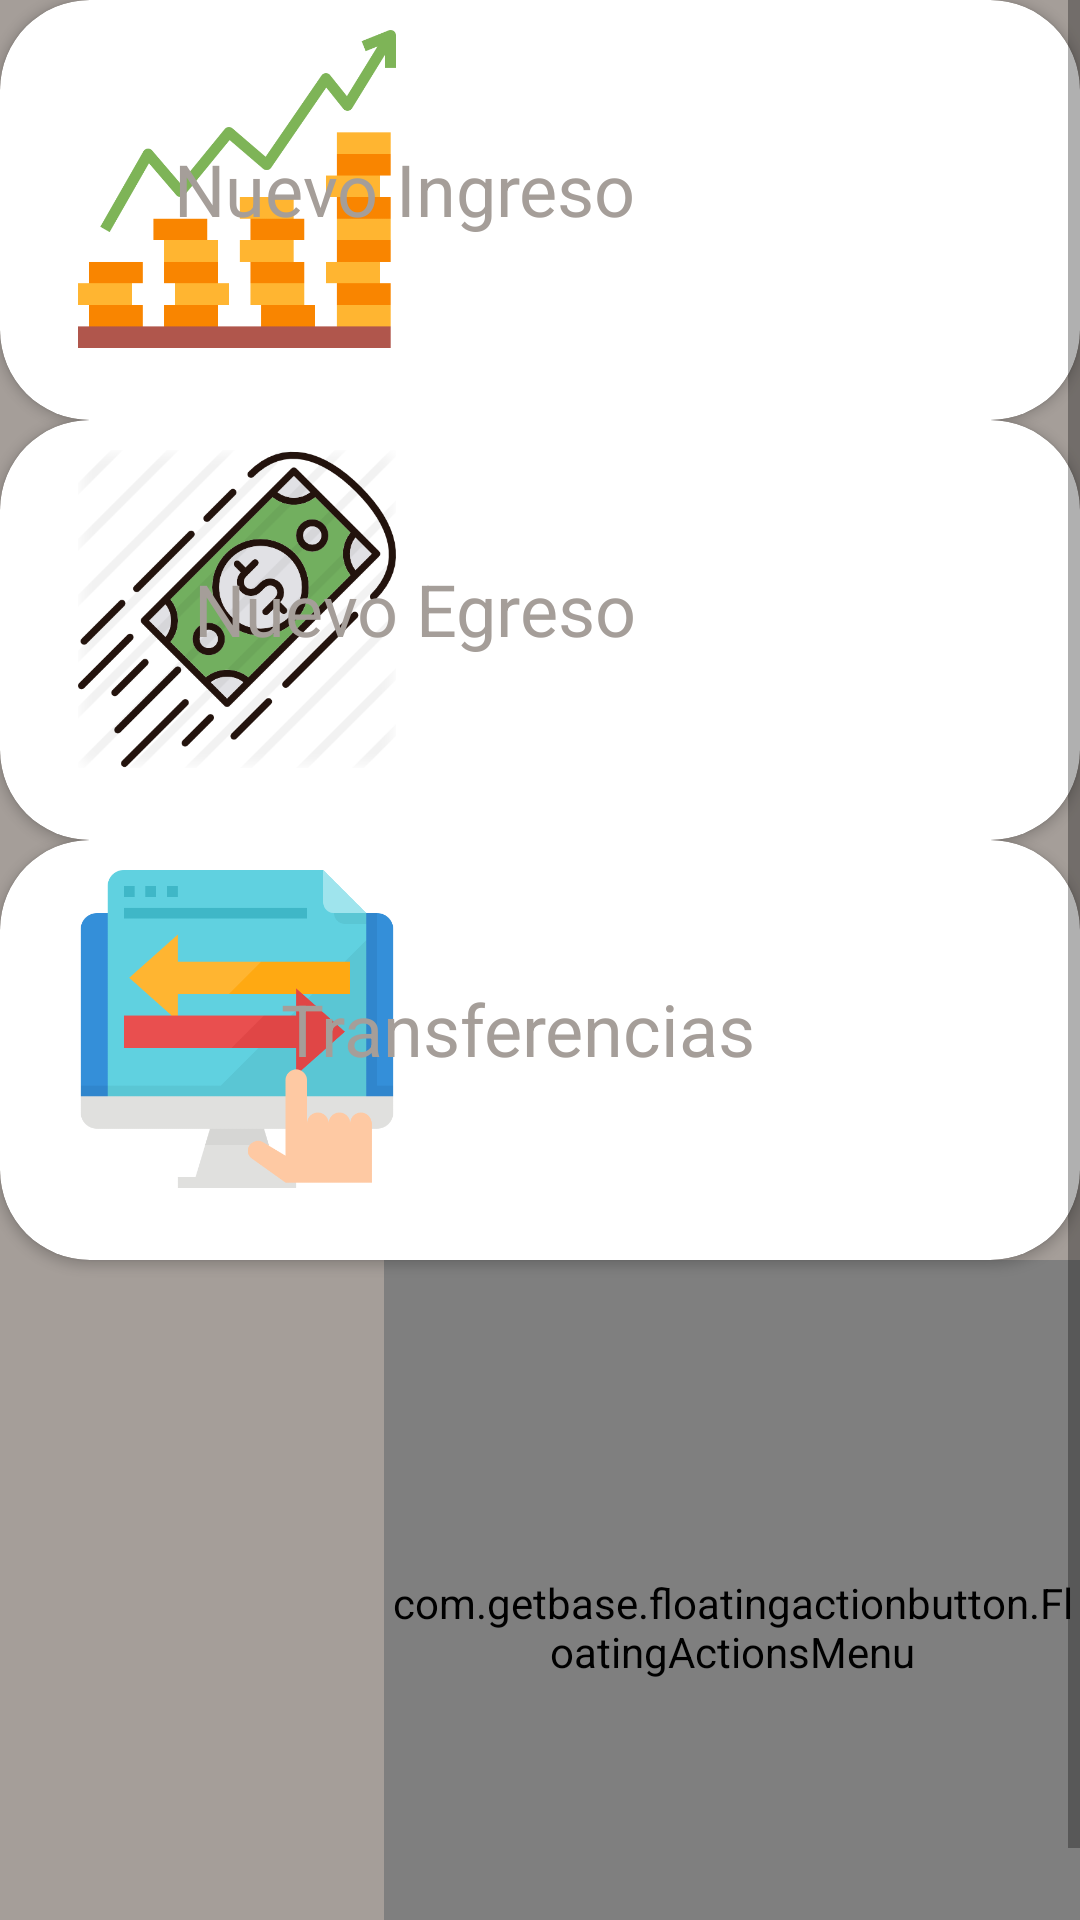

Named icons in this screenshot (1080 x 1920) and their centers, (x,y):
transacciones: (249,1029)
